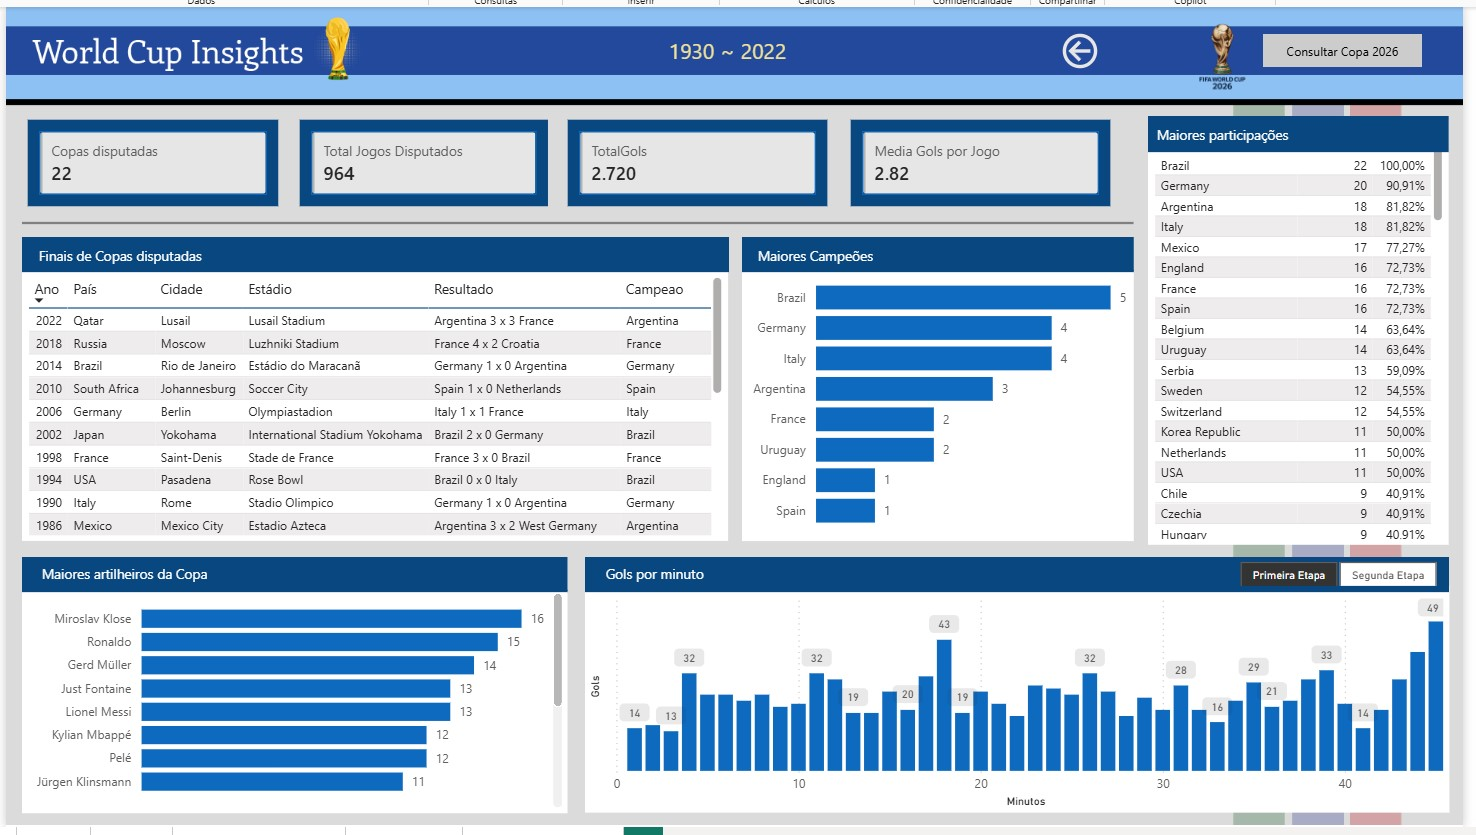

The page's visual inventory and layout, read from the dashboard file:
{"tool":"powerbi","page":{"name":"Historic","canvas":[1280,720],"ordinal":2},"visuals":[{"type":"shape","box":[14,482.9,479.4,29.7],"z":0,"group":"g1"},{"type":"shape","box":[508.4,482.9,758.6,29.7],"z":0,"group":"g2"},{"type":"clusteredColumnChart","fields":{"Category":["goals-by-minute-summary.minute_end"],"Y":["Sum(goals-by-minute-summary.goal_count)"]},"box":[508.4,508.3,758.6,199.3],"z":0},{"type":"shape","box":[13.9,202.1,620.8,29.9],"z":1000},{"type":"textbox","box":[26.2,482.8,219.5,29],"z":1000,"group":"g1"},{"type":"textbox","box":[521.4,482.8,224.7,28.9],"z":1000,"group":"g2"},{"type":"tableEx","fields":{"Values":["Participacao_Copa_Ate2022.team_name","Participacao_Copa_Ate2022.Contagem","Medidas.%Participacao"]},"box":[1002.7,99.2,264.3,373.2],"z":2000},{"type":"tableEx","fields":{"Values":["Campeões.match_date.Variation.Hierarquia de datas.Ano","Campeões.country_name","Campeões.city_name","Campeões.stadium_name","Campeões.Resultado","Campeões.Campeao"]},"box":[14,231.9,619.9,237.1],"z":3000},{"type":"shape","box":[14,183.6,976.4,12.3],"z":4000},{"type":"textbox","box":[23.7,203.9,186.1,29],"z":5000},{"type":"shape","box":[1002.7,95.6,264.3,29.9],"z":6000},{"type":"textbox","box":[1005.4,97.5,271.3,29],"z":7000},{"type":"barChart","fields":{"Category":["top-scorers-summary.player"],"Y":["Sum(top-scorers-summary.goals)"]},"box":[14,482.9,479.4,224.8],"z":8000},{"type":"group","id":"g1","title":"Grupo 1","box":[14,482.8,479.4,29.9],"z":9000},{"type":"group","id":"g2","title":"Grupo 1","box":[508.4,482.8,758.6,29.9],"z":10000},{"type":"barChart","fields":{"Category":["Campeões.Campeao"],"Y":["CountNonNull(Campeões.Campeao)"]},"box":[646.2,202.1,344.2,266.9],"z":11000},{"type":"cardVisual","fields":{"Data":["Count(team_appearances.tournament_name)"]},"box":[14,94.2,230.9,86],"z":12000},{"type":"cardVisual","fields":{"Data":["Medidas.TotalGols"]},"box":[488.2,94.2,238.8,86],"z":13000},{"type":"cardVisual","fields":{"Data":["Medidas.TotalJogosDisputados"]},"box":[252.9,94.2,228.3,86],"z":14000},{"type":"shape","box":[646.2,202,344.2,29.9],"z":15000},{"type":"textbox","box":[655,203.7,186.1,29],"z":16000},{"type":"cardVisual","fields":{"Data":["Medidas.MediaGolsJogo"]},"box":[736.7,94.2,238.8,86],"z":17000},{"type":"shape","box":[14,506.5,479.4,12.3],"z":18000},{"type":"shape","box":[508.4,506.5,758.6,12.3],"z":19000},{"type":"shape","box":[1002.7,120.2,264.3,12.3],"z":20000},{"type":"shape","box":[14,225.7,620.8,12.3],"z":21000},{"type":"shape","box":[646.2,225.7,344.2,12.3],"z":22000},{"type":"textbox","box":[576.9,21.1,126.4,35.1],"z":23000},{"type":"actionButton","box":[1103.7,23.7,139.6,29],"z":24000},{"type":"image","box":[1030,0.9,76.4,85.2],"z":25000},{"type":"slicer","fields":{"Values":["Etapa.Etapa"]},"box":[1057.8,480.3,222.1,28.1],"z":26000},{"type":"actionButton","box":[922.8,18.4,43,40.4],"z":27000}]}

Visuals, with their boxes on the page's 1280x720 design canvas (x1, y1, x2, y2). These are canvas units, not pixel positions in the 1476x835 screenshot, which may show the page scaled, cropped or inside an application window:
shape: crop(14, 483, 493, 513)
shape: crop(508, 483, 1267, 513)
clusteredColumnChart - goals-by-minute-summary.minute_end x Sum(goals-by-minute-summary.goal_count): crop(508, 508, 1267, 708)
shape: crop(14, 202, 635, 232)
textbox: crop(26, 483, 246, 512)
textbox: crop(521, 483, 746, 512)
tableEx - Participacao_Copa_Ate2022.team_name x Participacao_Copa_Ate2022.Contagem: crop(1003, 99, 1267, 472)
tableEx - Campeões.match_date.Variation.Hierarquia de datas.Ano x Campeões.country_name: crop(14, 232, 634, 469)
shape: crop(14, 184, 990, 196)
textbox: crop(24, 204, 210, 233)
shape: crop(1003, 96, 1267, 126)
textbox: crop(1005, 98, 1277, 126)
barChart - top-scorers-summary.player x Sum(top-scorers-summary.goals): crop(14, 483, 493, 708)
"Grupo 1" group: crop(14, 483, 493, 513)
"Grupo 1" group: crop(508, 483, 1267, 513)
barChart - Campeões.Campeao x CountNonNull(Campeões.Campeao): crop(646, 202, 990, 469)
cardVisual - Count(team_appearances.tournament_name): crop(14, 94, 245, 180)
cardVisual - Medidas.TotalGols: crop(488, 94, 727, 180)
cardVisual - Medidas.TotalJogosDisputados: crop(253, 94, 481, 180)
shape: crop(646, 202, 990, 232)
textbox: crop(655, 204, 841, 233)
cardVisual - Medidas.MediaGolsJogo: crop(737, 94, 976, 180)
shape: crop(14, 506, 493, 519)
shape: crop(508, 506, 1267, 519)
shape: crop(1003, 120, 1267, 132)
shape: crop(14, 226, 635, 238)
shape: crop(646, 226, 990, 238)
textbox: crop(577, 21, 703, 56)
actionButton: crop(1104, 24, 1243, 53)
image: crop(1030, 1, 1106, 86)
slicer - Etapa.Etapa: crop(1058, 480, 1280, 508)
actionButton: crop(923, 18, 966, 59)
